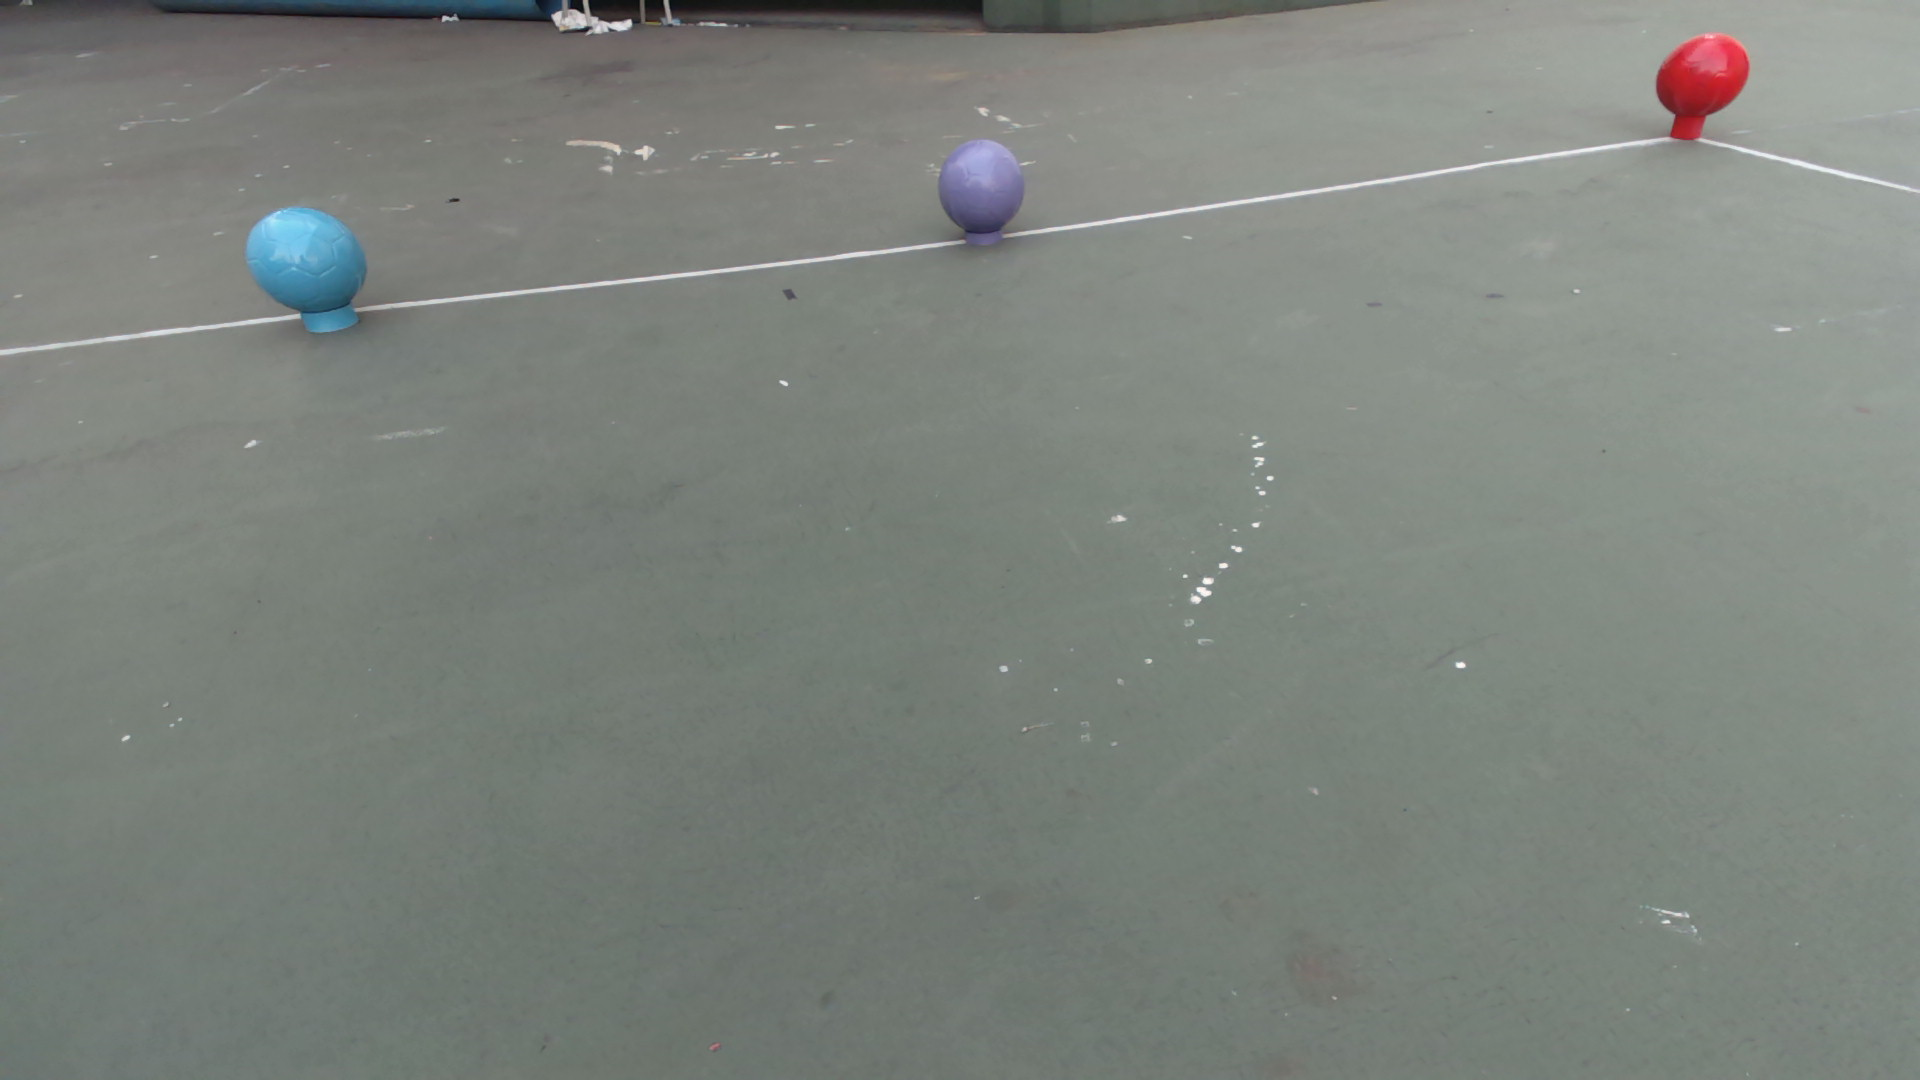Blue ball: (244, 204, 367, 314)
Purple ball: (938, 138, 1027, 235)
Red ball: (1654, 32, 1753, 117)
